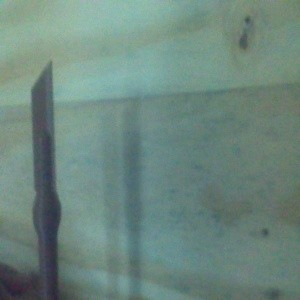cutter: (29, 58, 62, 300)
